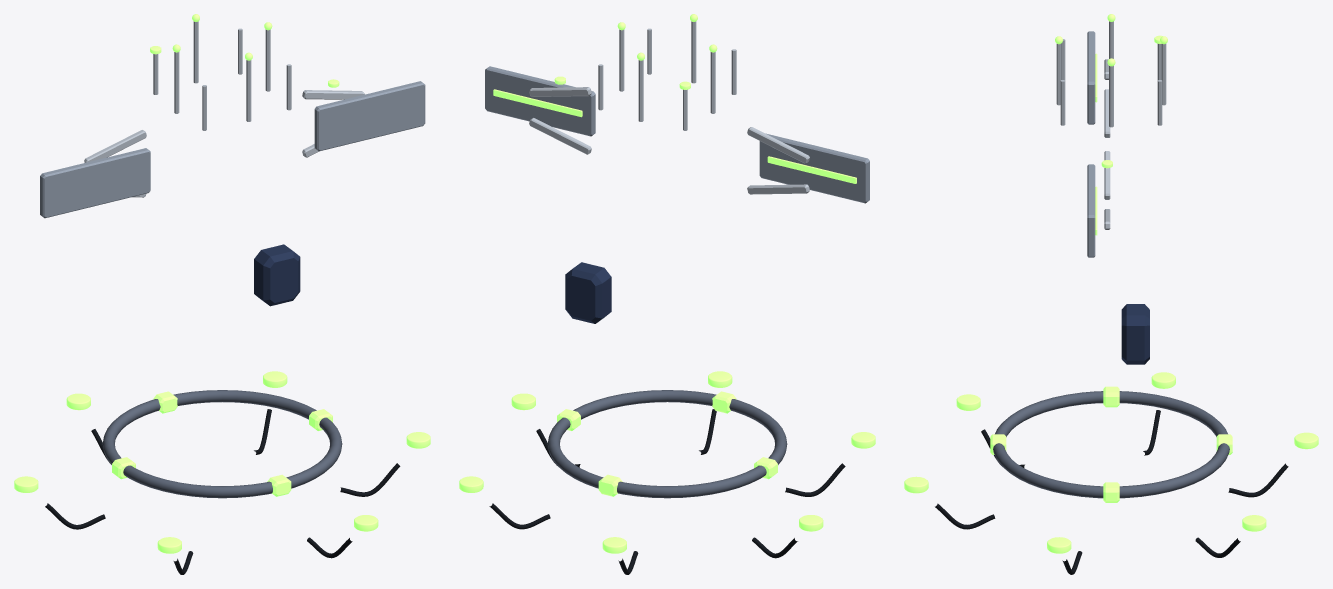
File: tower_detector_field_s8.glb
3 views of the same model, side by side, from view 1: azimuth 30°, elevation 25°; view 2: azimuth 150°, elevation 25°; view 3: azimuth 270°, elevation 25° (orthographic).
Visible parts, largest first — view 1: detector_base_ring, detector_wing_l, detector_wing_r, detector_relay, detector_wing_strut_r, detector_wing_strut_l; view 2: detector_base_ring, detector_wing_r, detector_wing_l, detector_relay, detector_wing_glow_l, detector_wing_glow_r, detector_wing_strut_b_l, detector_wing_strut_r, detector_wing_strut_b_r, detector_wing_strut_l; view 3: detector_base_ring, detector_relay, detector_wing_l, detector_wing_r.
Part boxes in pixels (<box>): detector_base_ring: <box>102,390,342,498</box>; detector_wing_l: <box>314,81,425,151</box>; detector_wing_r: <box>40,148,150,218</box>; detector_relay: <box>254,244,300,306</box>; detector_wing_strut_r: <box>84,130,146,162</box>; detector_wing_strut_l: <box>302,90,364,99</box>; detector_base_ring: <box>547,390,787,498</box>; detector_wing_r: <box>759,133,869,203</box>; detector_wing_l: <box>485,66,595,136</box>; detector_relay: <box>565,262,611,323</box>; detector_wing_glow_l: <box>493,89,582,117</box>; detector_wing_glow_r: <box>767,156,856,183</box>; detector_wing_strut_b_l: <box>529,118,591,154</box>; detector_wing_strut_r: <box>747,127,809,163</box>; detector_wing_strut_b_r: <box>747,184,809,194</box>; detector_wing_strut_l: <box>529,87,591,96</box>; detector_base_ring: <box>993,391,1229,498</box>; detector_relay: <box>1121,304,1149,364</box>; detector_wing_l: <box>1087,164,1095,257</box>; detector_wing_r: <box>1087,31,1095,124</box>.
Size of what is drawn, in the model's own units: 2.17 by 2.6 by 2.05.
